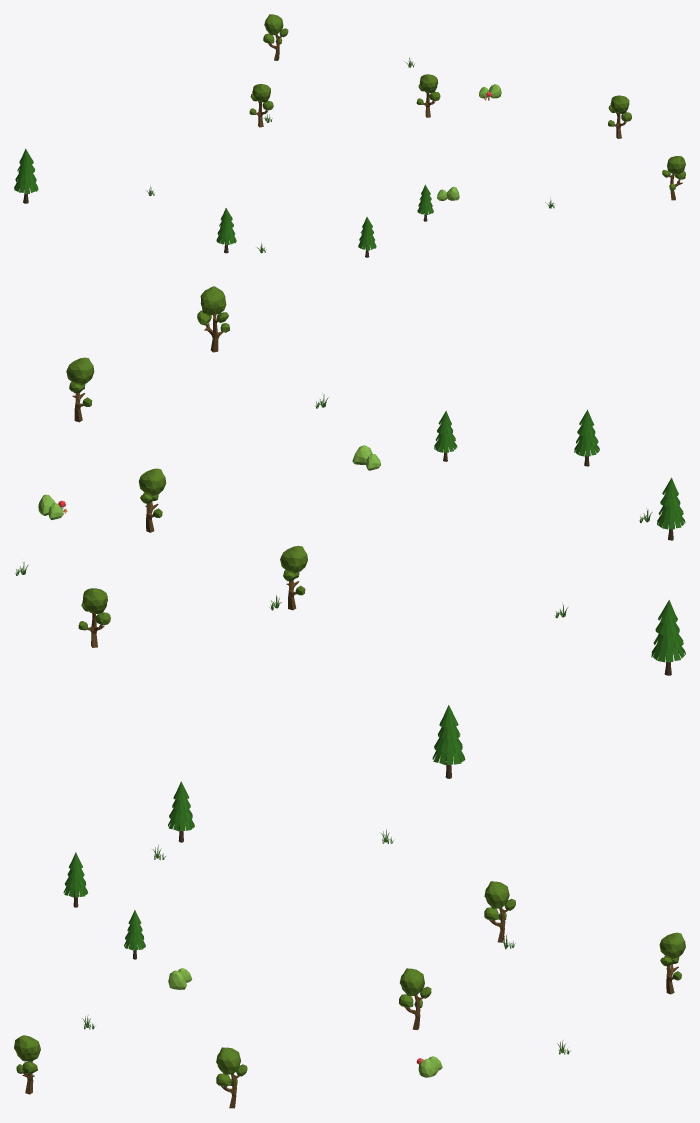
File: Trees_level3.glb
3 renders of one model, top to bottom at view 1: azimuth 30°, elevation 25°; view 2: azimuth 150°, elevation 25°; view 3: azimuth 270°, elevation 25°, orthographic. The views are drawn at different scales.
Visible parts, largest first — view 1: Trees_level3; view 2: Trees_level3; view 3: Trees_level3.
Boxes of the visible parts, <box> form: Trees_level3: <box>14,14,685,257</box>; Trees_level3: <box>15,286,685,675</box>; Trees_level3: <box>14,705,685,1108</box>.
Size of the model in its own units: 7.51 by 0.7454 by 6.23.
